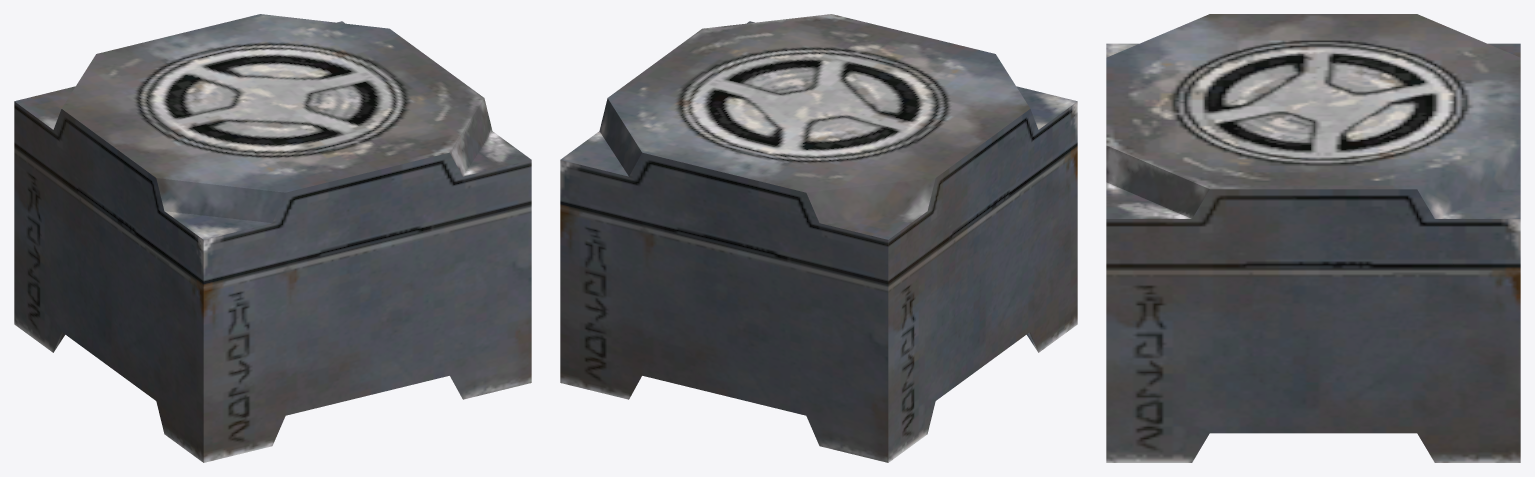
Rendered from con_gen_energy_solid_sml_l0.fbx.
3 views of the same model, side by side, from view 1: azimuth 30°, elevation 25°; view 2: azimuth 150°, elevation 25°; view 3: azimuth 270°, elevation 25° (orthographic). The views are drawn at different scales.
Parts seen in each view (by area): view 1: mesh_node; view 2: mesh_node; view 3: mesh_node.
Boxes of the visible parts, box(x1,y1,x2,y2) form: mesh_node: box(14, 14, 531, 462); mesh_node: box(560, 14, 1077, 462); mesh_node: box(1106, 14, 1520, 462).
Bounding box in the file's own units: 0.2498 × 0.1821 × 0.2498.
1 material, 1 textured.
